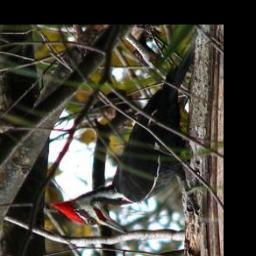Woodpecker: (51, 44, 204, 236)
